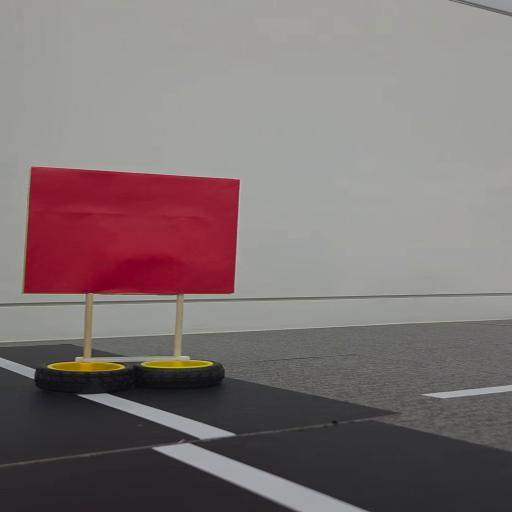Sign_A: (10, 154, 268, 402)
